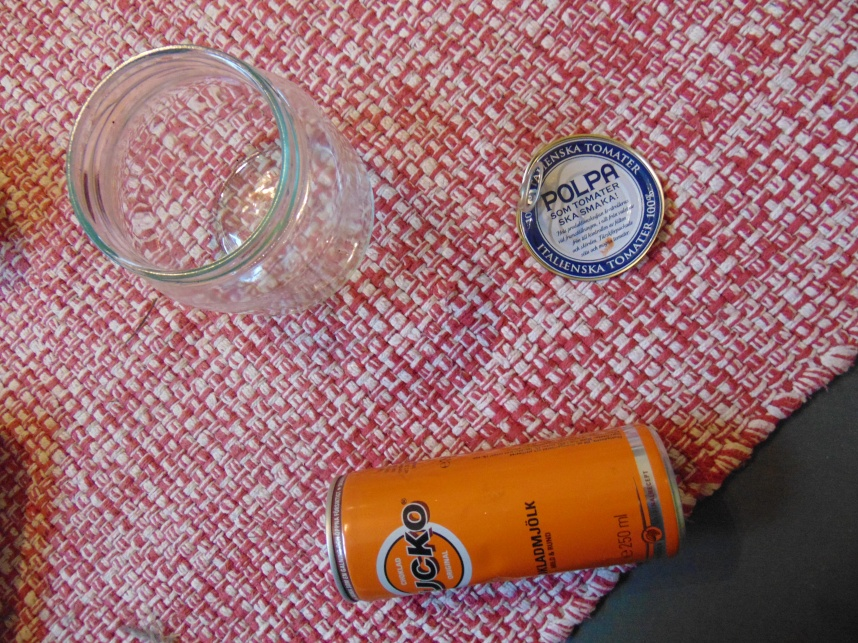glass_bottle: (64, 43, 378, 319)
metal: (518, 135, 669, 282)
metal_can: (325, 422, 687, 604)
